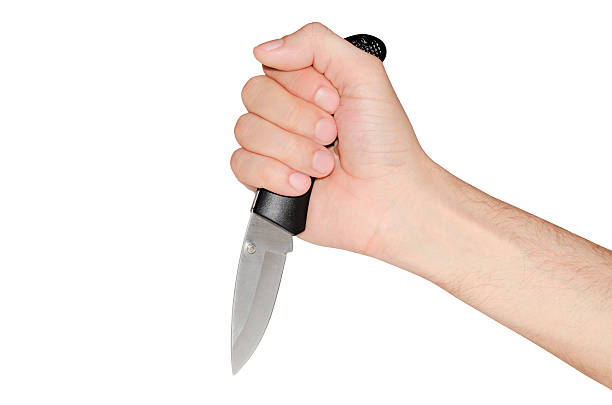knife: (227, 174, 316, 377)
